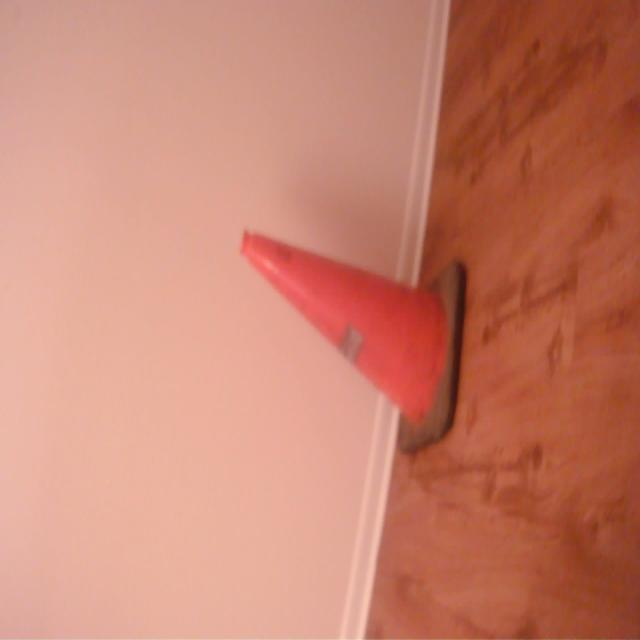traffic cone: (235, 222, 468, 461)
